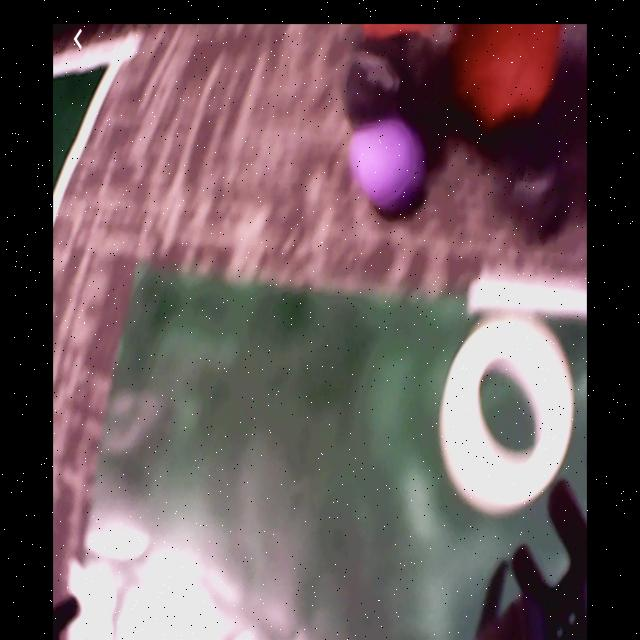ball: (358, 120, 418, 208)
